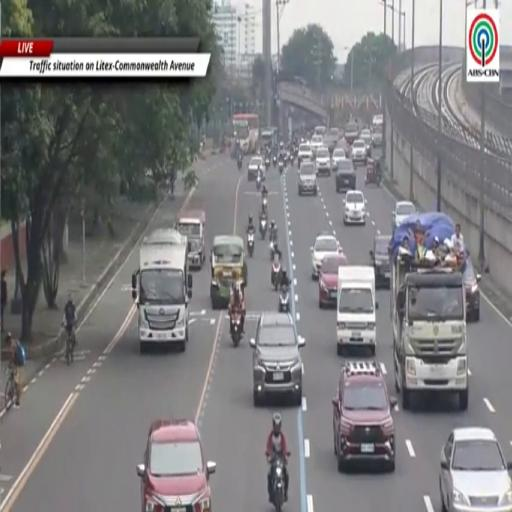bus: (233, 114, 259, 154)
car: (333, 360, 396, 472), (137, 420, 215, 510), (439, 427, 511, 511), (250, 312, 305, 407), (319, 252, 347, 308), (310, 233, 342, 279), (463, 256, 481, 322), (370, 235, 391, 289), (343, 190, 366, 225), (298, 160, 317, 196), (336, 159, 356, 193), (393, 201, 416, 229), (315, 147, 331, 176), (351, 139, 368, 166), (248, 156, 265, 181), (324, 127, 339, 153), (297, 142, 313, 166), (344, 121, 359, 145), (332, 148, 347, 170), (360, 130, 372, 156), (310, 135, 323, 156), (372, 125, 383, 147)
jeepney: (210, 236, 247, 309), (176, 211, 205, 269)
motorcycle: (271, 458, 284, 511), (231, 312, 242, 346), (271, 260, 281, 291), (279, 286, 289, 312), (247, 230, 254, 257), (259, 218, 267, 239), (270, 238, 276, 261), (256, 174, 261, 190), (237, 155, 242, 170), (262, 196, 267, 211), (265, 157, 270, 170), (279, 160, 284, 173), (290, 153, 294, 165), (273, 155, 276, 167)
tricycle: (365, 159, 381, 186)
truck: (391, 252, 468, 410), (132, 229, 192, 353), (337, 266, 378, 356), (324, 127, 339, 156), (260, 127, 278, 148)
